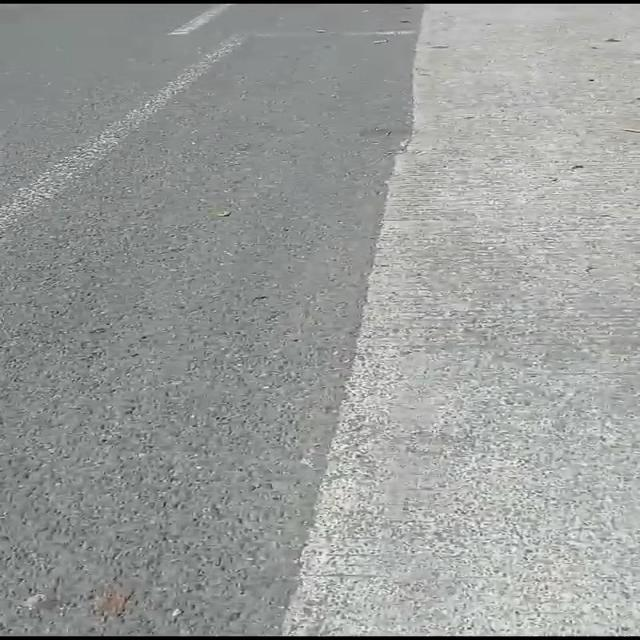Sambungan: (264, 0, 640, 640)
